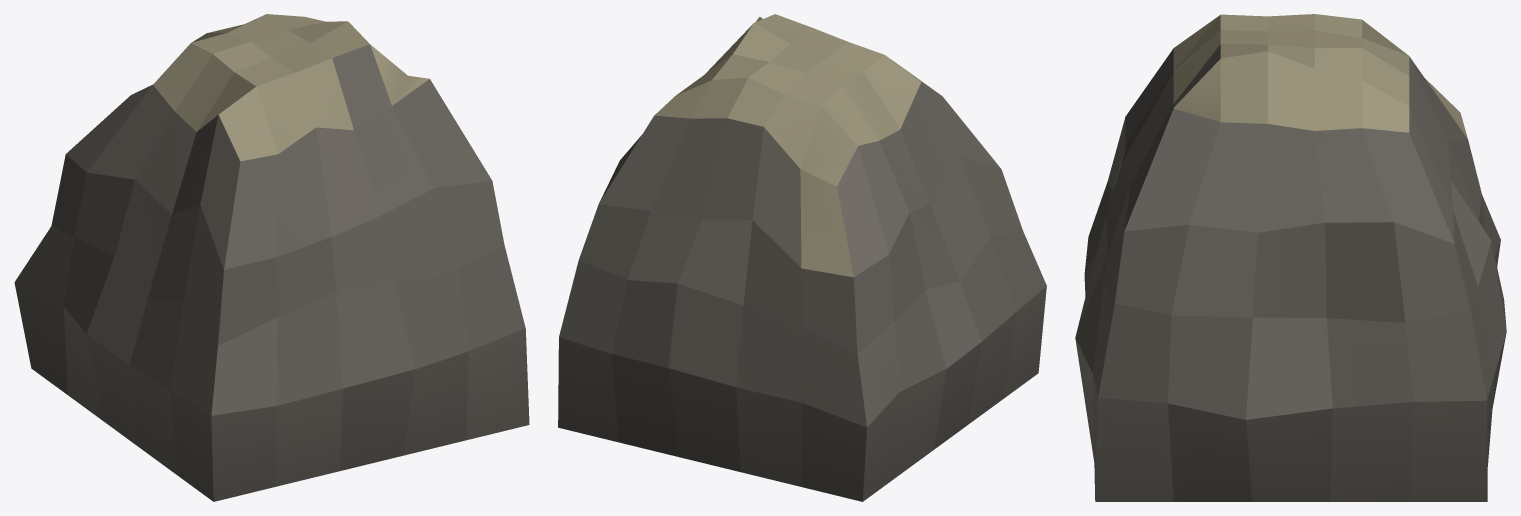
File: roca_suelta_2.glb
3 views of the same model, side by side, from view 1: azimuth 30°, elevation 25°; view 2: azimuth 150°, elevation 25°; view 3: azimuth 270°, elevation 25° (orthographic). The views are drawn at different scales.
Parts seen in each view (by area): view 1: propforge-cuartos-roca_suelta; view 2: propforge-cuartos-roca_suelta; view 3: propforge-cuartos-roca_suelta.
Boxes of the visible parts, left/top/right/bottom form: propforge-cuartos-roca_suelta: left=14, top=14, right=529, bottom=501; propforge-cuartos-roca_suelta: left=558, top=14, right=1046, bottom=501; propforge-cuartos-roca_suelta: left=1075, top=14, right=1506, bottom=501.
Size of the model in its own units: 0.9032 by 0.8945 by 0.8795.
